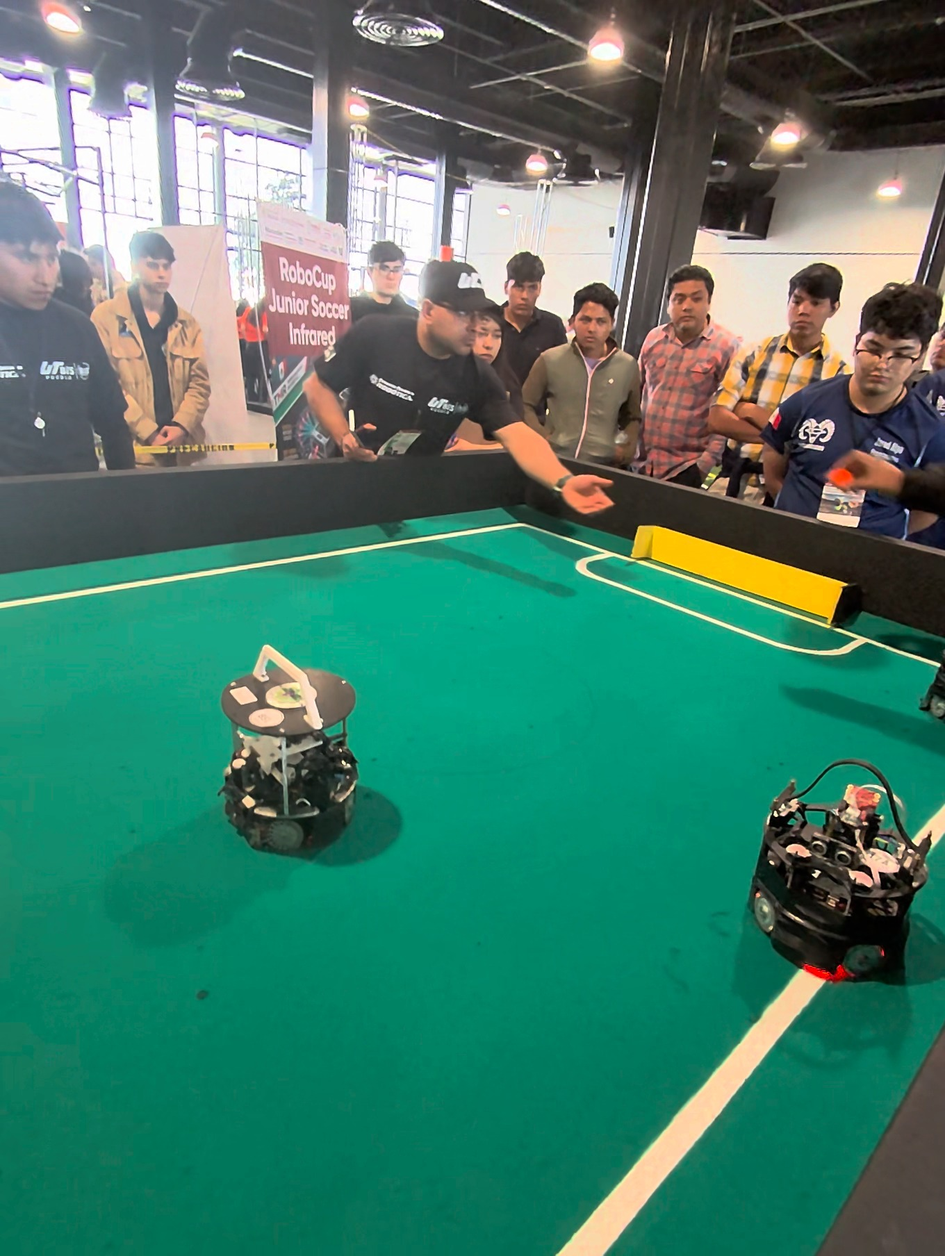Robot: (751, 744, 937, 995), (211, 629, 388, 871), (919, 614, 945, 744)
